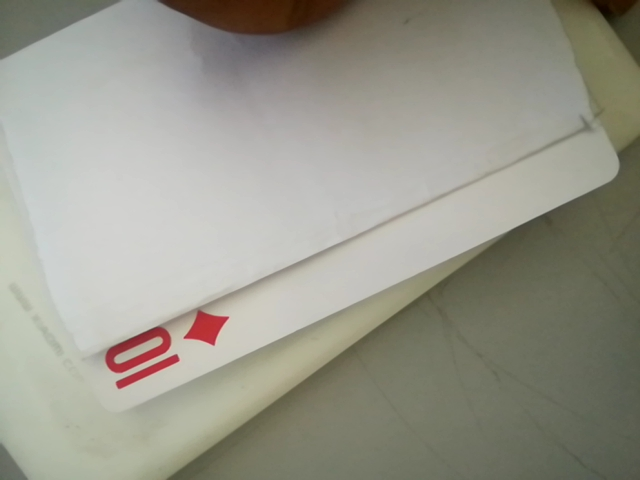fk 10: (90, 307, 232, 396)
